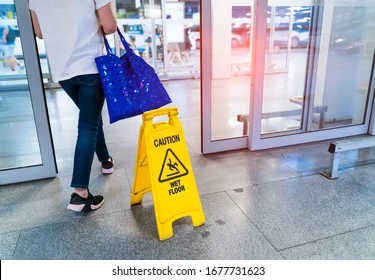wet caution sign: (125, 116, 216, 248)
